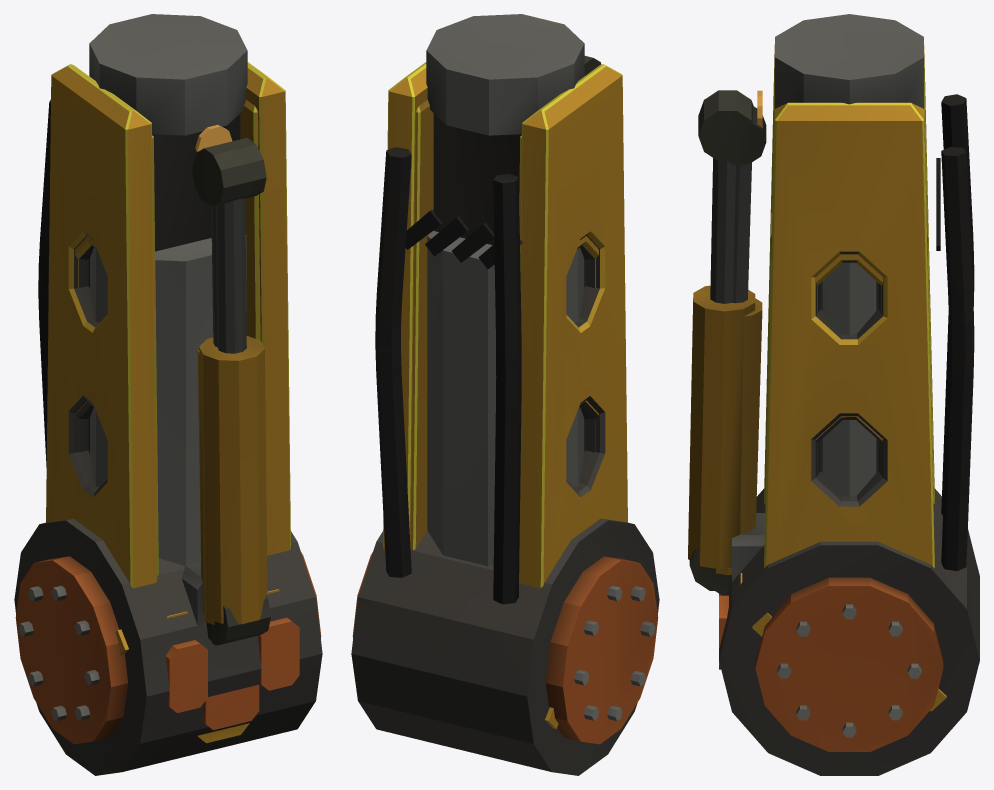
The model's file is arm-loader.glb.
3 renders of one model, left to right at view 1: azimuth 30°, elevation 25°; view 2: azimuth 150°, elevation 25°; view 3: azimuth 270°, elevation 25°, orthographic.
Parts seen in each view (by area): view 1: Upper_Mesh, Joint_Mesh, Fore_Mesh, Stub_Mesh, Hand_Mesh; view 2: Upper_Mesh, Joint_Mesh, Fore_Mesh, Stub_Mesh; view 3: Upper_Mesh, Joint_Mesh, Fore_Mesh, Stub_Mesh.
Part boxes in pixels (x1,y1,x2,y2): Upper_Mesh: (38,62,290,645); Joint_Mesh: (14,518,322,775); Fore_Mesh: (75,14,260,645); Stub_Mesh: (90,235,246,565); Hand_Mesh: (165,589,299,743); Upper_Mesh: (375,56,627,604); Joint_Mesh: (351,518,659,775); Fore_Mesh: (405,14,598,550); Stub_Mesh: (427,231,583,566); Upper_Mesh: (688,45,974,590); Joint_Mesh: (719,488,979,775); Fore_Mesh: (715,14,940,594); Stub_Mesh: (771,213,927,497).
Size of the model in its own units: 0.594 by 1.74 by 0.6713.
